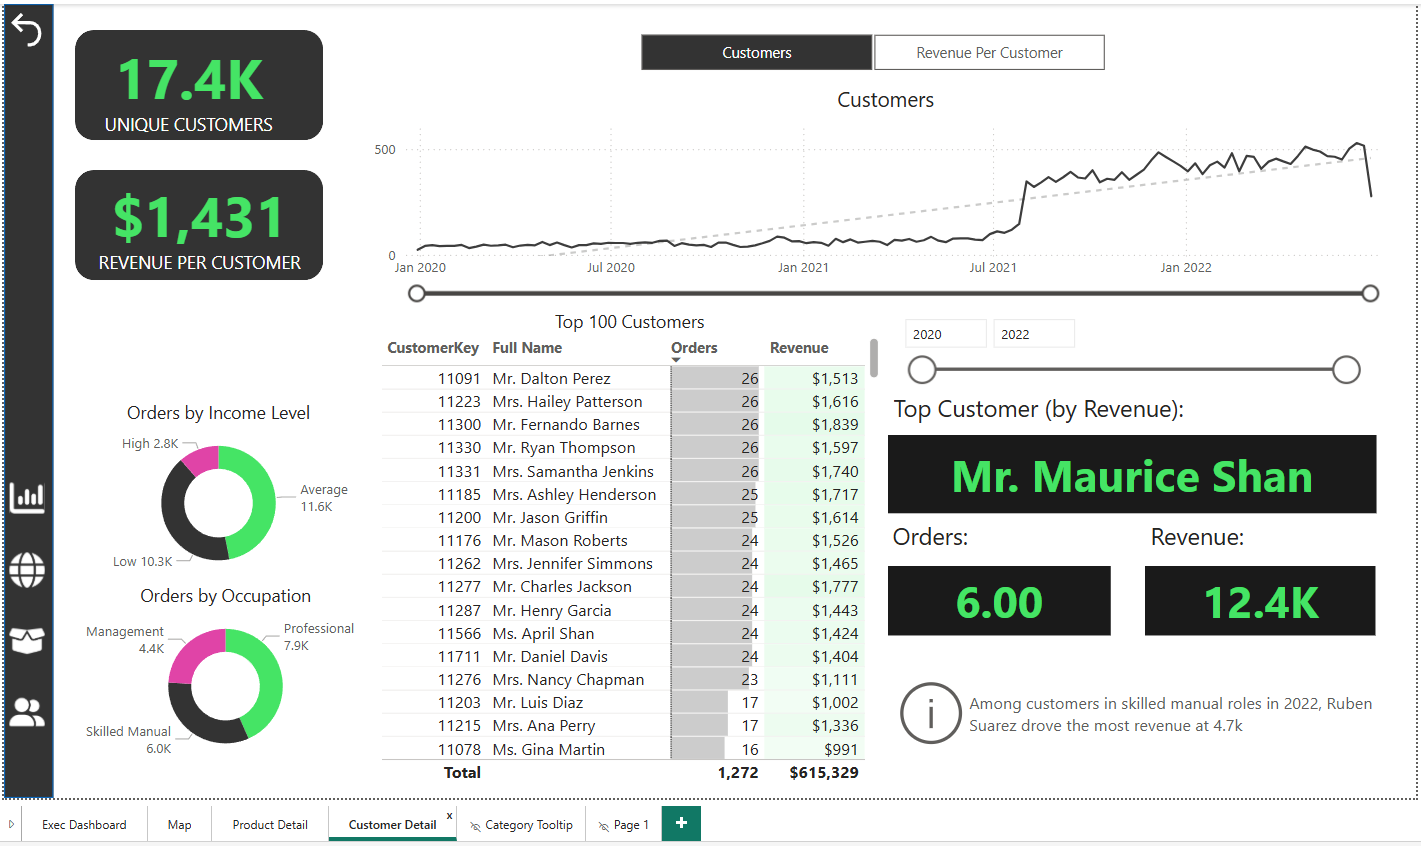

The dashboard page shown, as its layout file describes it:
{"tool":"powerbi","page":{"name":"Customer Detail","canvas":[1280,720],"ordinal":3},"visuals":[{"type":"shape","box":[0,0,44.8,720.2],"z":0},{"type":"shape","box":[64.6,150.5,225.3,100],"z":1000},{"type":"shape","box":[64.6,23.2,225.3,100],"z":2000},{"type":"card","fields":{"Values":["Measure.Total Customers"]},"box":[64.6,0,206.1,150.5],"z":3000},{"type":"card","fields":{"Values":["Measure.Average Revenue Per Customer"]},"box":[74.7,125.3,206.1,150.5],"z":4000},{"type":"lineChart","fields":{"Y":["Measure.Total Customers"],"Category":["Calendar Lookup.Date Hierarchy.Start of Year","Calendar Lookup.Date Hierarchy.Start of Month","Calendar Lookup.Date Hierarchy.Start of Week","Calendar Lookup.Date Hierarchy.Date"]},"box":[330.1,73.2,938.8,200],"z":5000},{"type":"donutChart","title":"Orders by Income Level","fields":{"Category":["Customer Lookup.Income Level"],"Y":["Measure.Total Orders"]},"box":[58.4,358.7,273,166],"z":6000},{"type":"donutChart","title":"Orders by Occupation","fields":{"Y":["Measure.Total Orders"],"Category":["Customer Lookup.Occupation"]},"box":[64.5,524.6,273.2,166.1],"z":7000},{"type":"tableEx","title":"Top 100 Customers","fields":{"Values":["Customer Lookup.CustomerKey","Customer Lookup.Full Name","Measure.Total Orders","Measure.Total Revenue"]},"box":[336.8,276.9,461.9,433.8],"z":8000},{"type":"card","fields":{"Values":["Measure.Full Name (Customer Detail)"]},"box":[801.5,391.1,442.7,71.5],"z":9000},{"type":"card","fields":{"Values":["Measure.Total Orders (Customer Detail)"]},"box":[801.5,509.7,201.6,62.5],"z":10000},{"type":"card","fields":{"Values":["Measure.Total Revenue(Customer Detail)"]},"box":[1035,509.7,209.3,62.5],"z":11000},{"type":"textbox","box":[801.5,346.4,298.6,44.7],"z":12000},{"type":"textbox","box":[1035,462.2,202.2,47],"z":13000},{"type":"textbox","box":[801.1,462.2,149.7,47],"z":14000},{"type":"slicer","fields":{"Values":["Calendar Lookup.Year"]},"box":[804.7,275.5,434.2,82.5],"z":15000},{"type":"actionButton","box":[805.2,607.4,444.6,71.1],"z":16000},{"type":"actionButton","box":[0,2.9,44.8,40.9],"z":17000},{"type":"actionButton","box":[0.5,428.4,44.8,40.4],"z":18000},{"type":"actionButton","box":[0.5,492.9,44.8,40.4],"z":19000},{"type":"actionButton","box":[0.5,557.4,44.8,40.4],"z":20000},{"type":"actionButton","box":[0.5,621.9,44.8,40.4],"z":21000},{"type":"slicer","fields":{"Values":["Customer Metric Selection.Customer Metric Selection"]},"box":[551.9,20.8,470,45.9],"z":22000}]}

Visuals, with their boxes on the page's 1280x720 design canvas (x1, y1, x2, y2). These are canvas units, not pixel positions in the 1421x846 screenshot, which may show the page scaled, cropped or inside an application window:
shape: 0,0,45,720
shape: 65,150,290,250
shape: 65,23,290,123
card - Measure.Total Customers: 65,0,271,150
card - Measure.Average Revenue Per Customer: 75,125,281,276
lineChart - Measure.Total Customers x Calendar Lookup.Date Hierarchy.Start of Year: 330,73,1269,273
"Orders by Income Level" donutChart: 58,359,331,525
"Orders by Occupation" donutChart: 64,525,338,691
"Top 100 Customers" tableEx: 337,277,799,711
card - Measure.Full Name (Customer Detail): 802,391,1244,463
card - Measure.Total Orders (Customer Detail): 802,510,1003,572
card - Measure.Total Revenue(Customer Detail): 1035,510,1244,572
textbox: 802,346,1100,391
textbox: 1035,462,1237,509
textbox: 801,462,951,509
slicer - Calendar Lookup.Year: 805,276,1239,358
actionButton: 805,607,1250,678
actionButton: 0,3,45,44
actionButton: 0,428,45,469
actionButton: 0,493,45,533
actionButton: 0,557,45,598
actionButton: 0,622,45,662
slicer - Customer Metric Selection.Customer Metric Selection: 552,21,1022,67
